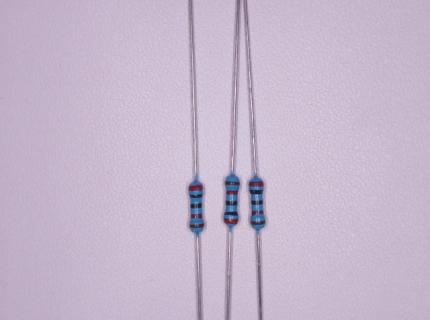Black band: (249, 189, 264, 195), (190, 203, 202, 209), (224, 211, 238, 216), (190, 194, 203, 199), (226, 200, 238, 205), (251, 200, 263, 205)
Brown band: (189, 223, 205, 228), (250, 220, 266, 225), (225, 181, 239, 185)
Red band: (188, 185, 203, 191), (223, 218, 238, 224), (249, 181, 264, 186), (191, 213, 202, 219), (252, 210, 263, 216), (225, 190, 238, 195)
